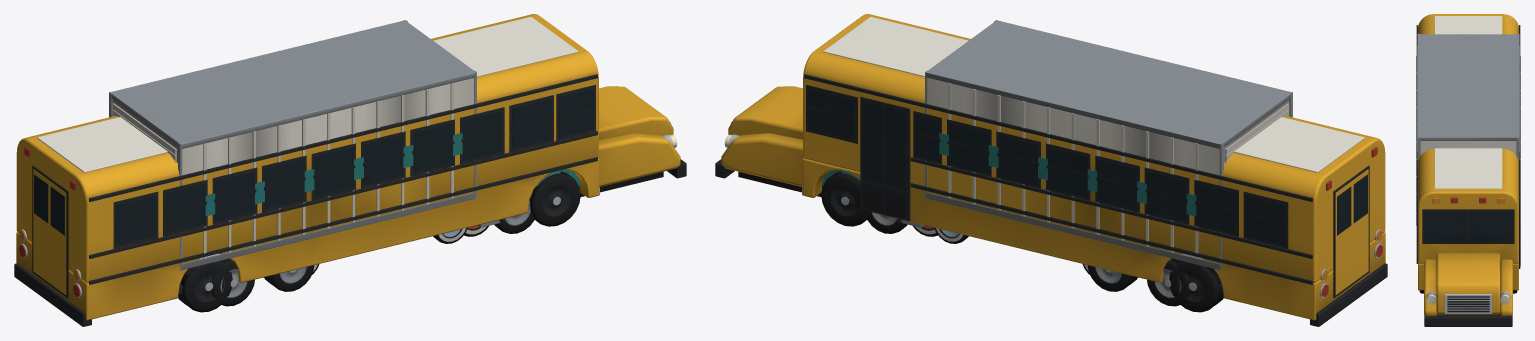
Rendered from survival-town.glb.
3 renders of one model, left to right at view 1: azimuth 30°, elevation 25°; view 2: azimuth 150°, elevation 25°; view 3: azimuth 270°, elevation 25°, orthographic. The views are drawn at different scales.
Parts seen in each view (by area): view 1: bus, van; view 2: bus, van; view 3: bus, van.
Part boxes in pixels (box(x1,y1,x2,y2)): bus: box(14, 14, 686, 326); van: box(109, 20, 599, 306); bus: box(715, 14, 1387, 326); van: box(802, 20, 1292, 306); bus: box(1416, 14, 1520, 326); van: box(1417, 34, 1519, 161).
Size of the model in its own units: 12.29 by 3.4 by 2.56.
